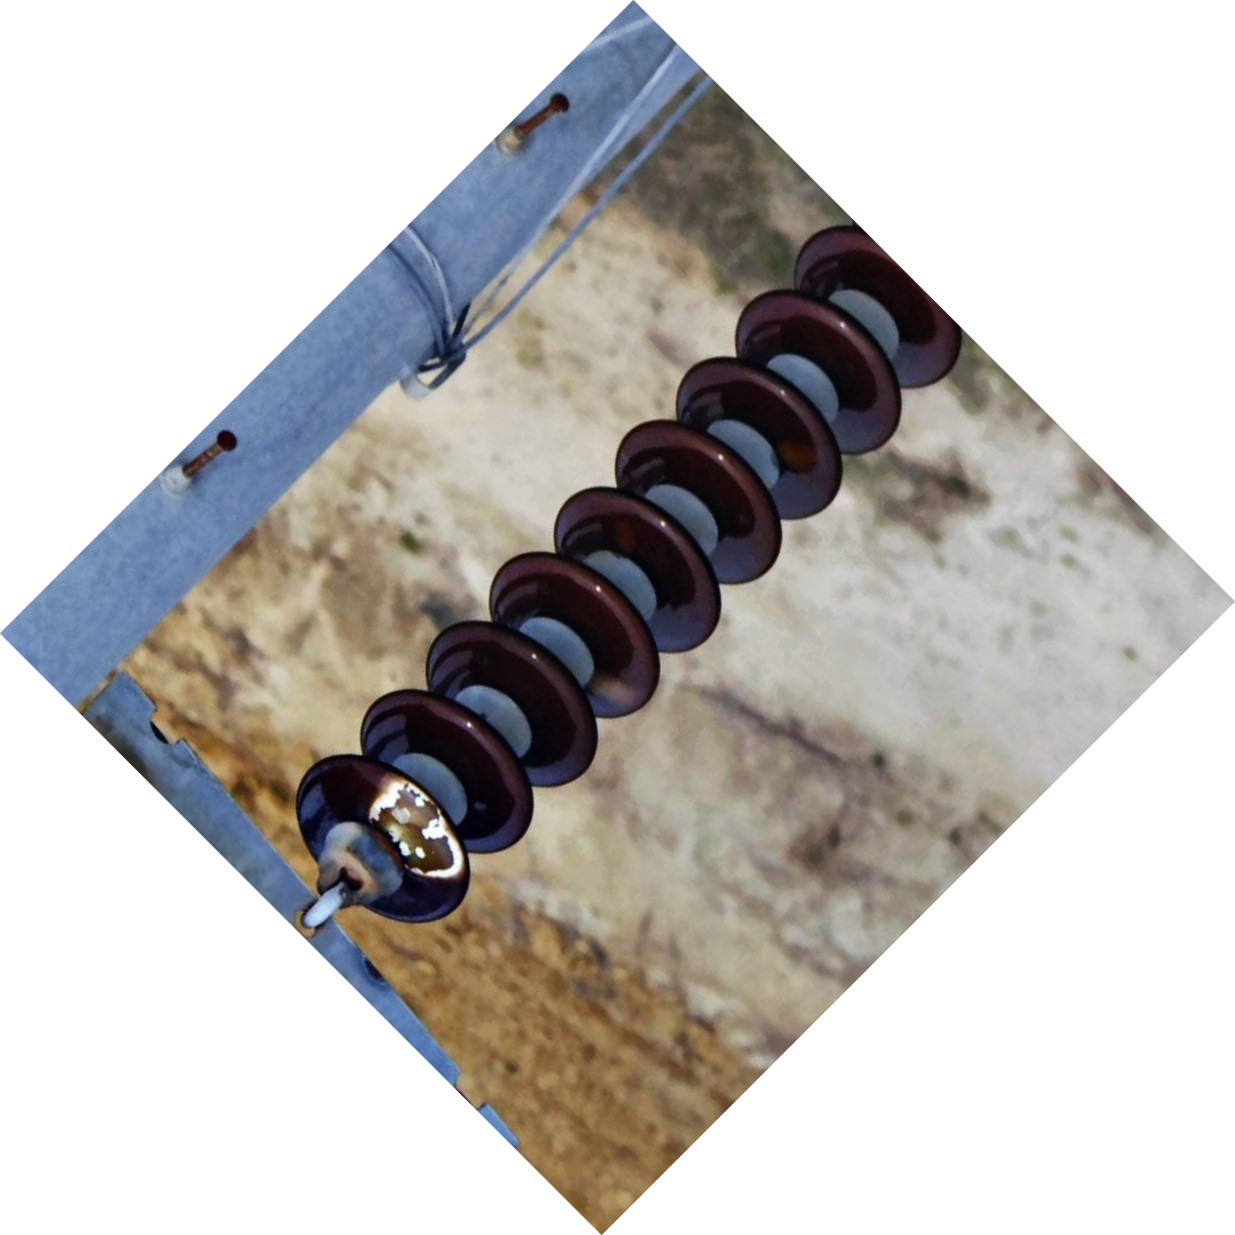Insulator flashover: (282, 744, 481, 938)
